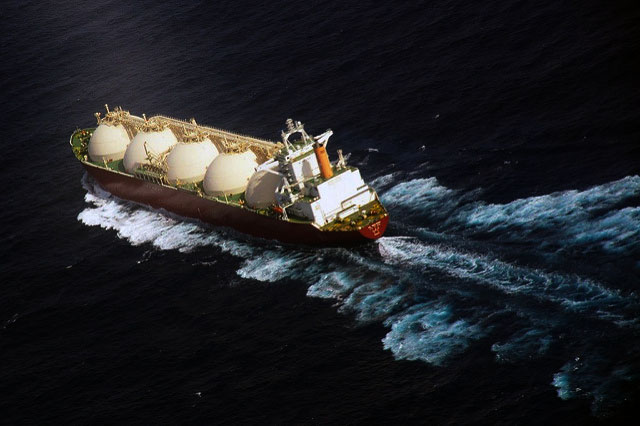LNG_ship: (69, 100, 391, 250)
